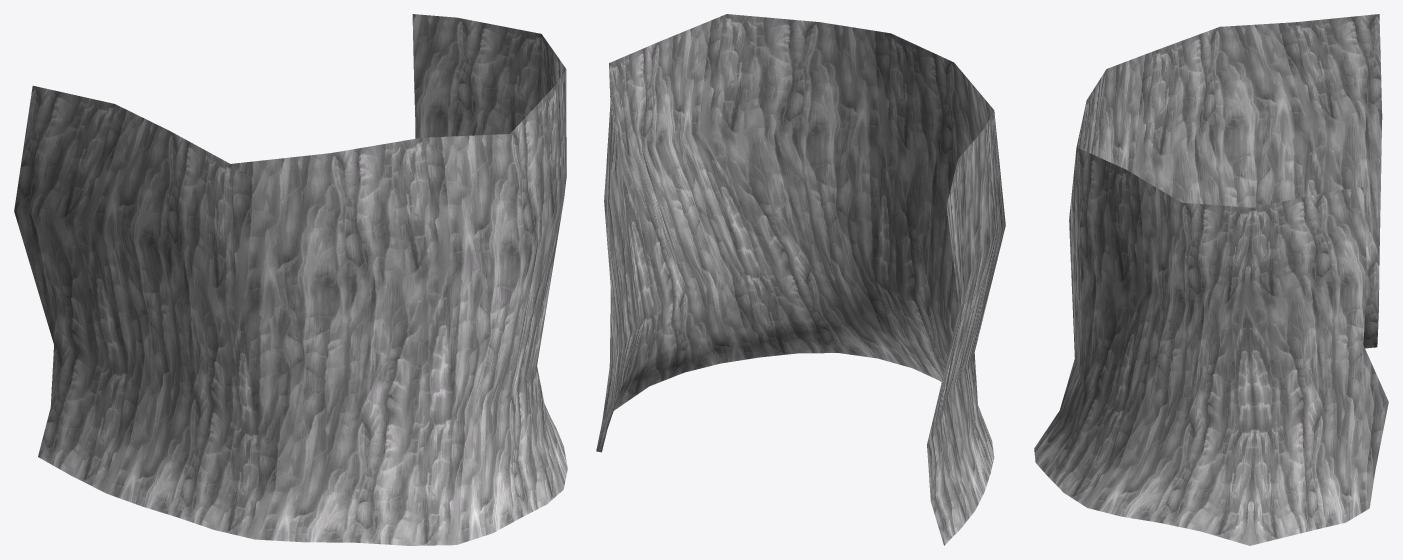
Rendered from SWORDLIGHT20_PS-AREA03_55.fbx.
3 views of the same model, side by side, from view 1: azimuth 30°, elevation 25°; view 2: azimuth 150°, elevation 25°; view 3: azimuth 270°, elevation 25° (orthographic). The views are drawn at different scales.
Visible parts, largest first — view 1: SWORDLIGHT20_PS-AREA03_55; view 2: SWORDLIGHT20_PS-AREA03_55; view 3: SWORDLIGHT20_PS-AREA03_55.
Part boxes in pixels (x1,y1,x2,y2): SWORDLIGHT20_PS-AREA03_55: (14, 14, 567, 545); SWORDLIGHT20_PS-AREA03_55: (596, 14, 1005, 545); SWORDLIGHT20_PS-AREA03_55: (1034, 14, 1388, 545).
Size of the model in its own units: 170035 by 141428 by 128531.
1 material, 1 textured.
